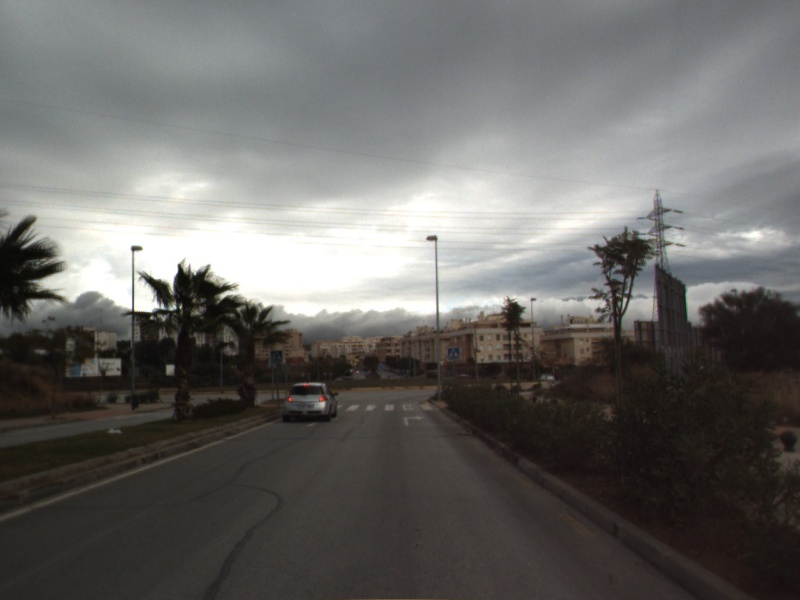RIGHT: (401, 413, 426, 428)
